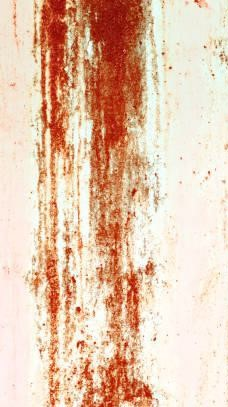Corrosion: (22, 1, 158, 407)
